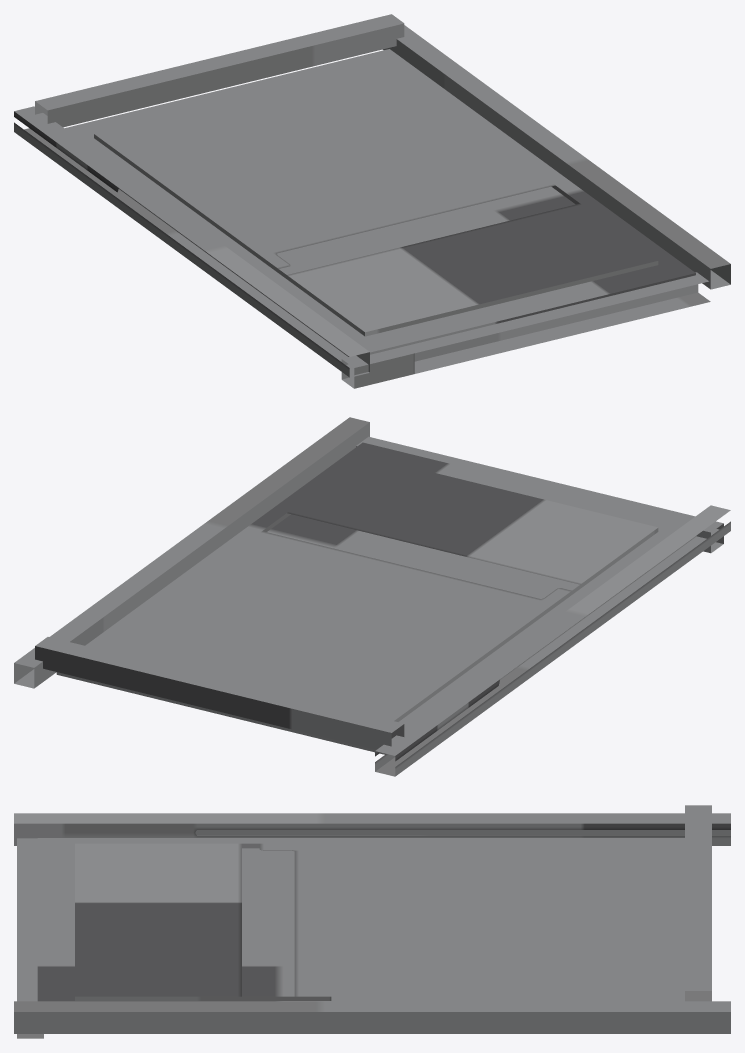
3 views of the same model, one above another, from view 1: azimuth 30°, elevation 25°; view 2: azimuth 150°, elevation 25°; view 3: azimuth 270°, elevation 25° (orthographic). The views are drawn at different scales.
Size of the model in its own units: 0.8849 by 0.106 by 1.35.
